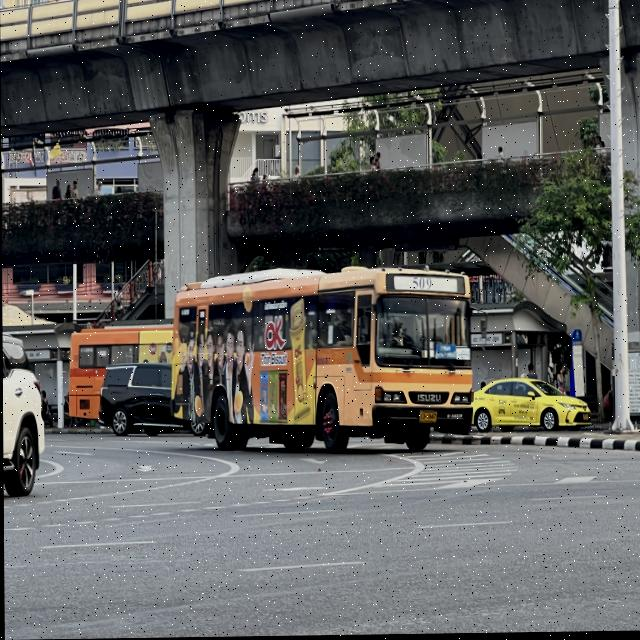BMTA-bus: (172, 269, 473, 455)
Bus Line Number: (409, 276, 434, 293)
Bus Side Number: (445, 413, 463, 422)
Destination Sign: (435, 345, 456, 362)
